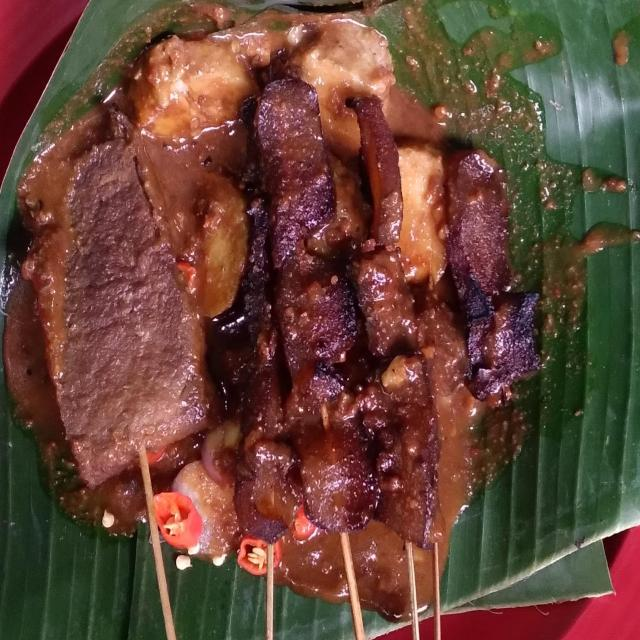Sate: (17, 57, 561, 640)
